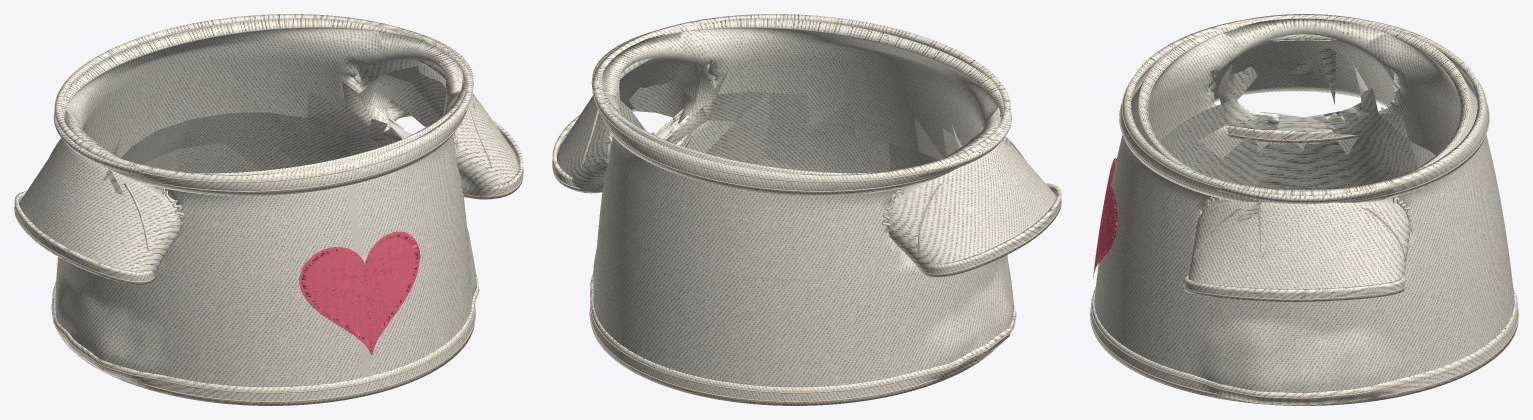
Rendered from sewn_shirt_love_penguin_surface_experiment.glb.
3 renders of one model, left to right at view 1: azimuth 30°, elevation 25°; view 2: azimuth 150°, elevation 25°; view 3: azimuth 270°, elevation 25°, orthographic.
Visible parts, largest first — view 1: Manga adaptada · Camiseta cosida continua, Forro interior cosido · Mesh_0, Dobladillo de algodón · Cuello, Bordado corazón · tejido continuo, Dobladillo de algodón · Bajo, Dobladillo de manga cosida -1, Pespunte · Bajo.001, Dobladillo de manga cosida 1, Pespunte · Bajo, Pespunte · Cuello.001, Pespunte · Cuello; view 2: Manga adaptada · Camiseta cosida continua, Forro interior cosido · Mesh_0, Dobladillo de algodón · Cuello, Dobladillo de algodón · Bajo, Dobladillo de manga cosida -1, Pespunte · Bajo.001, Dobladillo de manga cosida 1, Pespunte · Bajo, Pespunte · Cuello.001, Pespunte · Cuello; view 3: Manga adaptada · Camiseta cosida continua, Forro interior cosido · Mesh_0, Dobladillo de algodón · Cuello, Dobladillo de algodón · Bajo, Dobladillo de manga cosida 1, Dobladillo de manga cosida -1, Bordado corazón · tejido continuo, Pespunte · Bajo.001, Pespunte · Bajo, Pespunte · Cuello, Pespunte · Cuello.001.
Boxes of the visible parts, x1=… form: Manga adaptada · Camiseta cosida continua: x1=19, y1=18, x2=518, y2=387; Forro interior cosido · Mesh_0: x1=103, y1=66, x2=491, y2=195; Dobladillo de algodón · Cuello: x1=54, y1=14, x2=472, y2=196; Bordado corazón · tejido continuo: x1=299, y1=231, x2=420, y2=354; Dobladillo de algodón · Bajo: x1=53, y1=272, x2=478, y2=405; Dobladillo de manga cosida -1: x1=14, y1=191, x2=155, y2=284; Pespunte · Bajo.001: x1=52, y1=278, x2=479, y2=393; Dobladillo de manga cosida 1: x1=462, y1=120, x2=523, y2=199; Pespunte · Bajo: x1=51, y1=304, x2=475, y2=402; Pespunte · Cuello.001: x1=136, y1=90, x2=472, y2=182; Pespunte · Cuello: x1=108, y1=114, x2=465, y2=191; Manga adaptada · Camiseta cosida continua: x1=556, y1=18, x2=1056, y2=387; Forro interior cosido · Mesh_0: x1=620, y1=63, x2=1011, y2=173; Dobladillo de algodón · Cuello: x1=592, y1=14, x2=1010, y2=196; Dobladillo de algodón · Bajo: x1=590, y1=273, x2=1015, y2=405; Dobladillo de manga cosida -1: x1=922, y1=183, x2=1061, y2=277; Pespunte · Bajo.001: x1=590, y1=280, x2=1016, y2=393; Dobladillo de manga cosida 1: x1=552, y1=115, x2=691, y2=191; Pespunte · Bajo: x1=589, y1=308, x2=940, y2=402; Pespunte · Cuello.001: x1=592, y1=90, x2=928, y2=182; Pespunte · Cuello: x1=599, y1=113, x2=959, y2=191; Manga adaptada · Camiseta cosida continua: x1=1094, y1=14, x2=1514, y2=402; Forro interior cosido · Mesh_0: x1=1160, y1=46, x2=1435, y2=259; Dobladillo de algodón · Cuello: x1=1120, y1=15, x2=1488, y2=202; Dobladillo de algodón · Bajo: x1=1090, y1=287, x2=1518, y2=405; Dobladillo de manga cosida 1: x1=1184, y1=275, x2=1404, y2=302; Dobladillo de manga cosida -1: x1=1227, y1=125, x2=1358, y2=143; Bordado corazón · tejido continuo: x1=1093, y1=158, x2=1117, y2=278; Pespunte · Bajo.001: x1=1091, y1=294, x2=1517, y2=398; Pespunte · Bajo: x1=1090, y1=308, x2=1518, y2=397; Pespunte · Cuello: x1=1119, y1=104, x2=1489, y2=202; Pespunte · Cuello.001: x1=1121, y1=78, x2=1487, y2=189.
Bounding box in the file's own units: 0.6654 × 0.3077 × 0.5502.
Materials: 3 (1 with a texture image).
